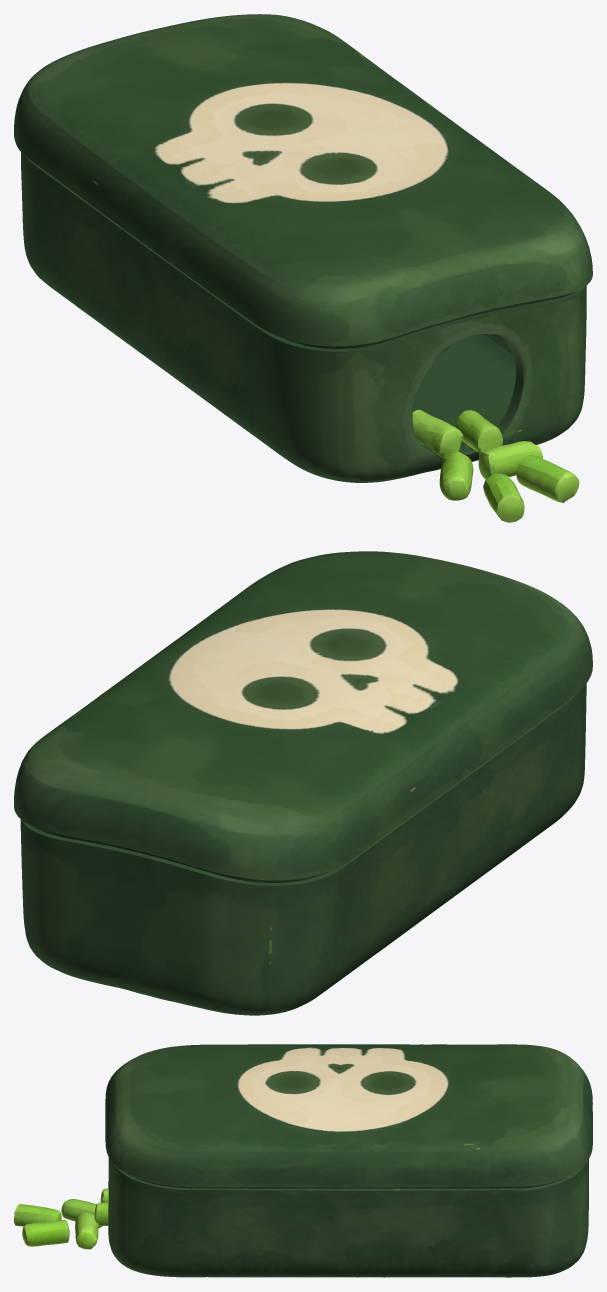
The model's file is poison_box.glb.
The picture shows the model from 3 angles, top to bottom: view 1: azimuth 30°, elevation 25°; view 2: azimuth 150°, elevation 25°; view 3: azimuth 270°, elevation 25°; orthographic projection. The views are drawn at different scales.
Visible parts, largest first — view 1: Mesh0; view 2: Mesh0; view 3: Mesh0.
Boxes of the visible parts, x1,y1,x2,y2 form: Mesh0: [14, 14, 592, 522]; Mesh0: [14, 551, 592, 1015]; Mesh0: [14, 1044, 592, 1277].
Bounding box in the file's own units: 0.8704 × 0.5434 × 1.9.
Materials: 1 (1 with a texture image).
